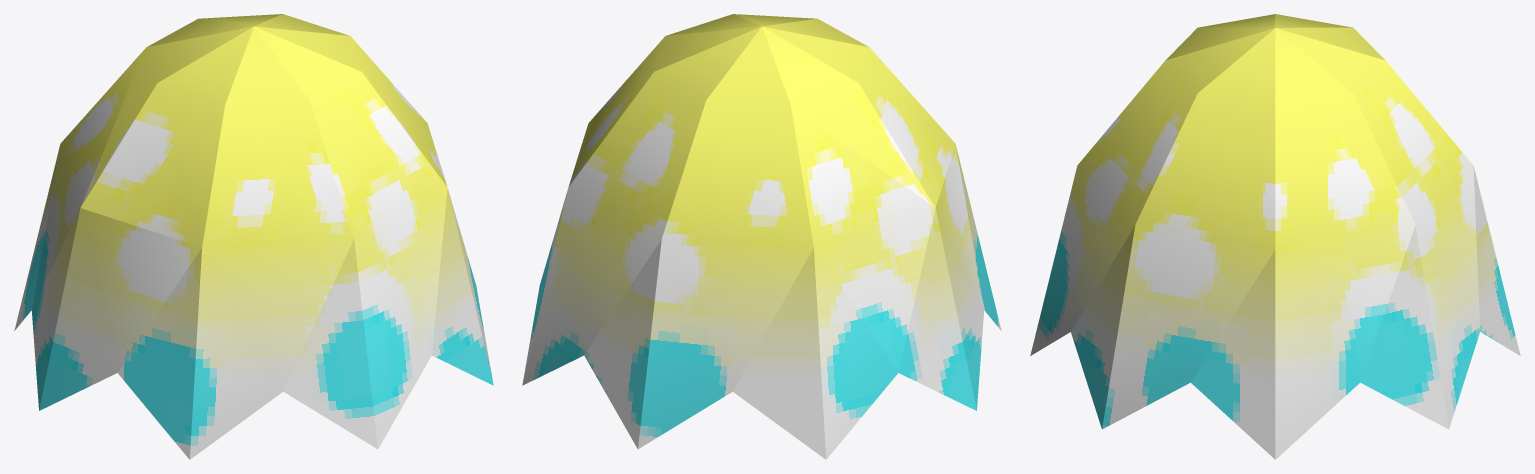
File: Egg Shell.obj
The picture shows the model from 3 angles, left to right: view 1: azimuth 30°, elevation 25°; view 2: azimuth 150°, elevation 25°; view 3: azimuth 270°, elevation 25°; orthographic projection.
Parts seen in each view (by area): view 1: Mesh_0155; view 2: Mesh_0155; view 3: Mesh_0155.
Part boxes in pixels (bbox=[...]): Mesh_0155: bbox=[14, 14, 493, 459]; Mesh_0155: bbox=[522, 14, 1001, 459]; Mesh_0155: bbox=[1030, 14, 1520, 459].
Size of the model in its own units: 0.4265 by 0.315 by 0.4265.
Materials: 1 (1 with a texture image).
